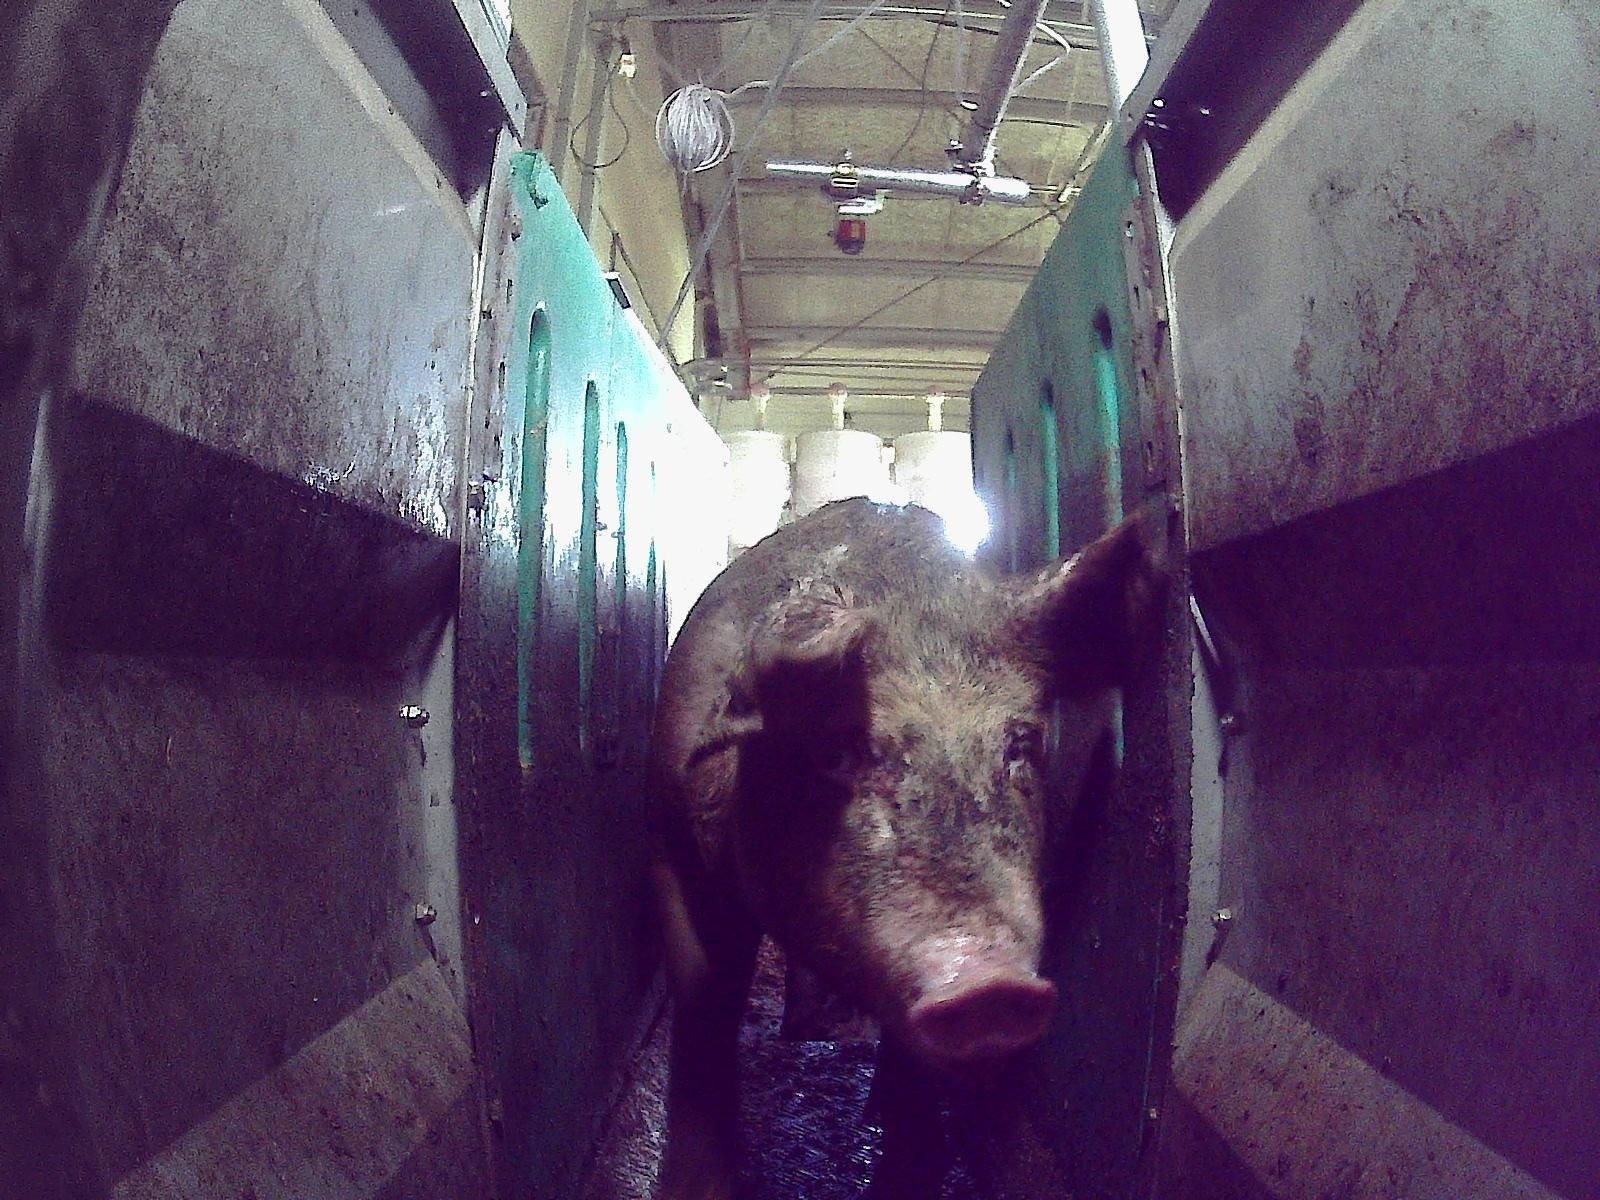Face: (786, 625, 1062, 1061)
